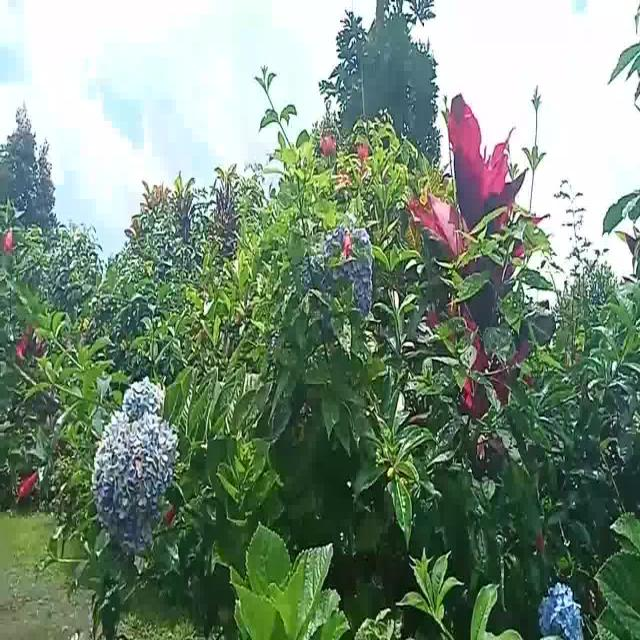Flower: (93, 376, 170, 554), (539, 579, 585, 637)
